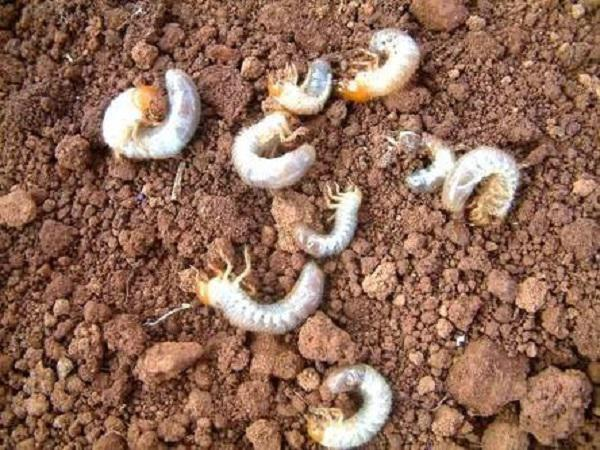grub: (303, 360, 401, 448)
